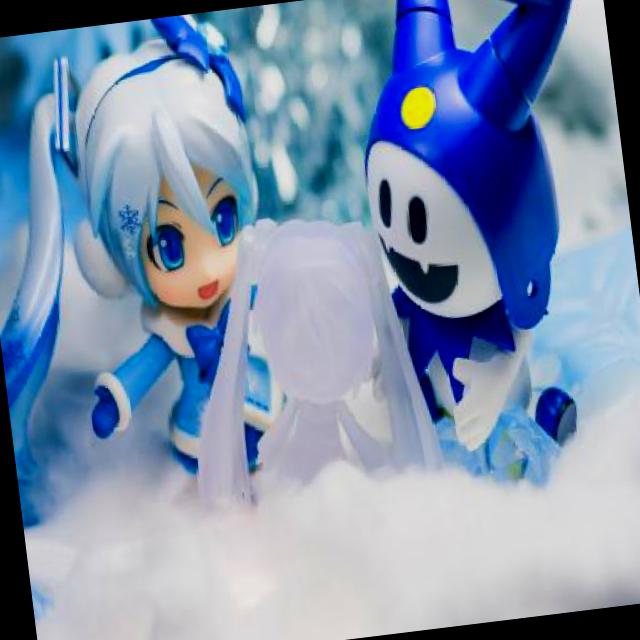Person: (0, 7, 318, 517), (156, 185, 441, 498)
